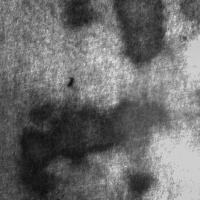patches: (112, 42, 200, 196), (22, 96, 167, 164), (0, 122, 102, 200), (14, 122, 62, 199), (113, 1, 168, 67), (0, 80, 44, 148), (118, 168, 158, 199), (61, 1, 97, 28), (177, 1, 200, 30)
